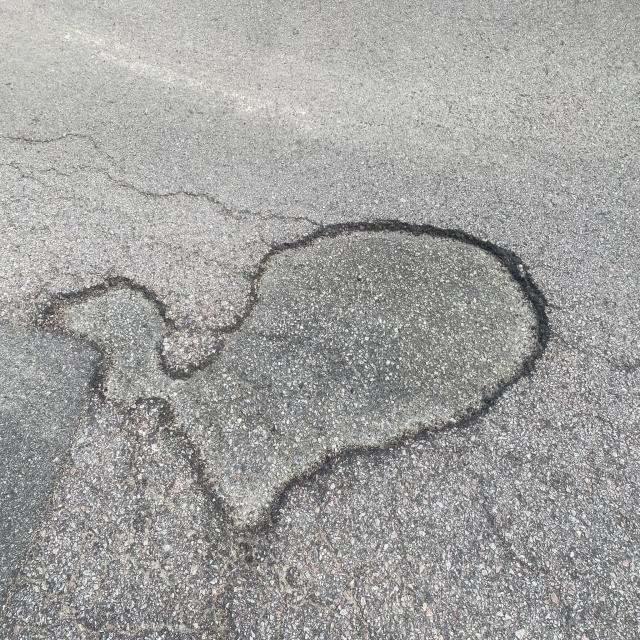pothole: (29, 164, 598, 552)
